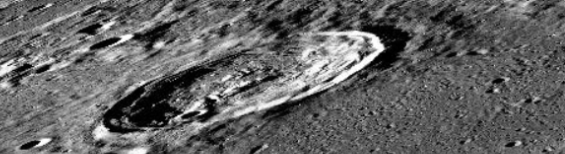crater: (69, 19, 486, 144)
